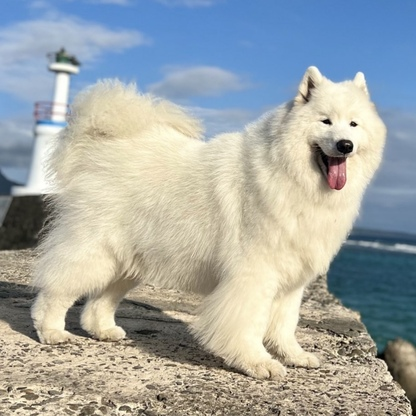samoyed: (27, 61, 392, 385)
